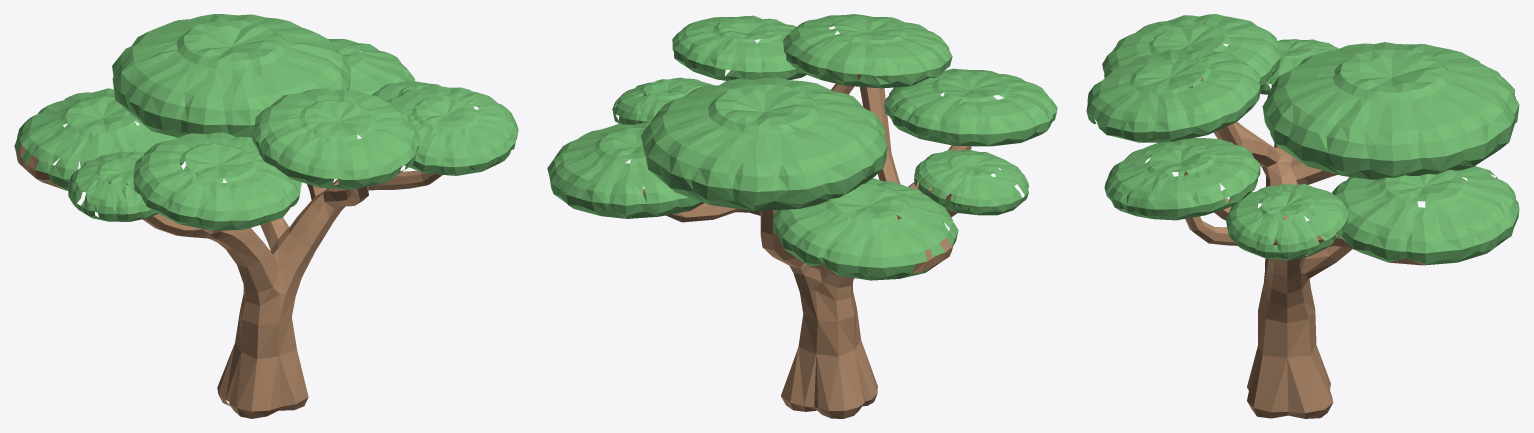
The model's file is nat_acacia.glb.
The picture shows the model from 3 angles, left to right: view 1: azimuth 30°, elevation 25°; view 2: azimuth 150°, elevation 25°; view 3: azimuth 270°, elevation 25°; orthographic projection. The views are drawn at different scales.
Parts seen in each view (by area): view 1: geometry_0; view 2: geometry_0; view 3: geometry_0.
Part boxes in pixels (left/top/right/bottom): geometry_0: left=14, top=14, right=518, bottom=418; geometry_0: left=547, top=14, right=1057, bottom=418; geometry_0: left=1086, top=14, right=1519, bottom=418.
Bounding box in the file's own units: 0.2104 × 0.165 × 0.1885.
